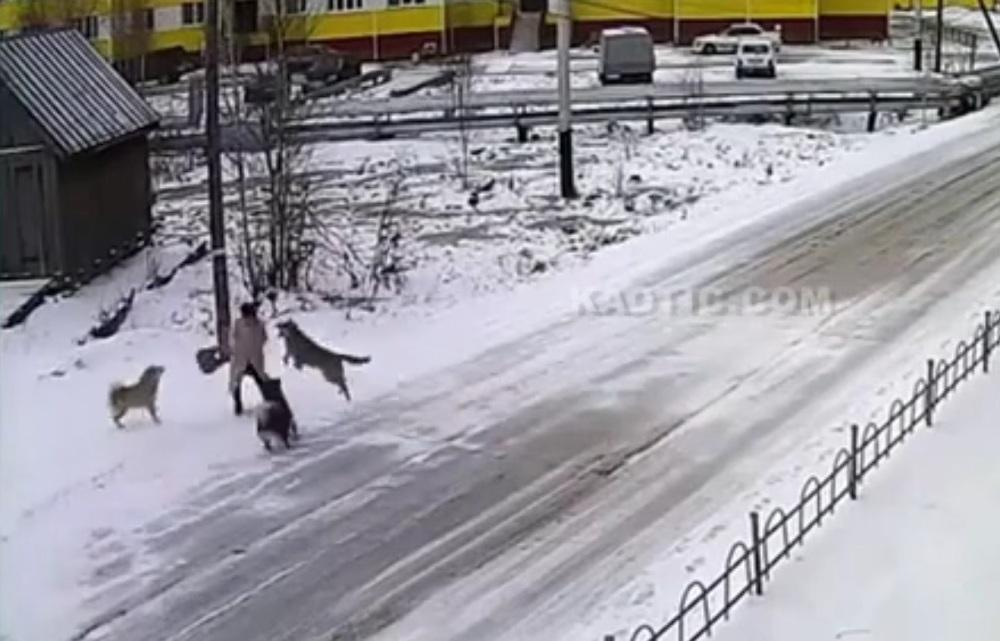dog_aggressive: (276, 318, 371, 402), (252, 376, 303, 455), (108, 362, 170, 425)
